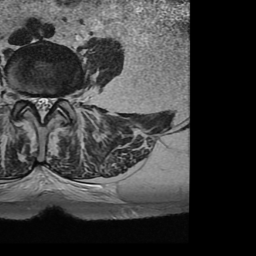CCS_normal: (39, 85, 47, 130)
LFS_severe_stenosis: (58, 86, 66, 110)
LLS_stenosis: (46, 86, 57, 116)
RFS_stenosis: (21, 83, 29, 109)
RLS_stenosis: (29, 86, 39, 115)
